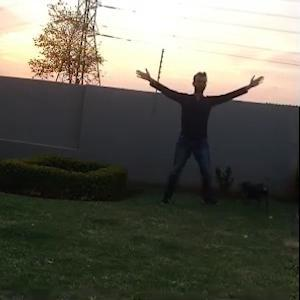takeoff: (142, 70, 256, 197)
